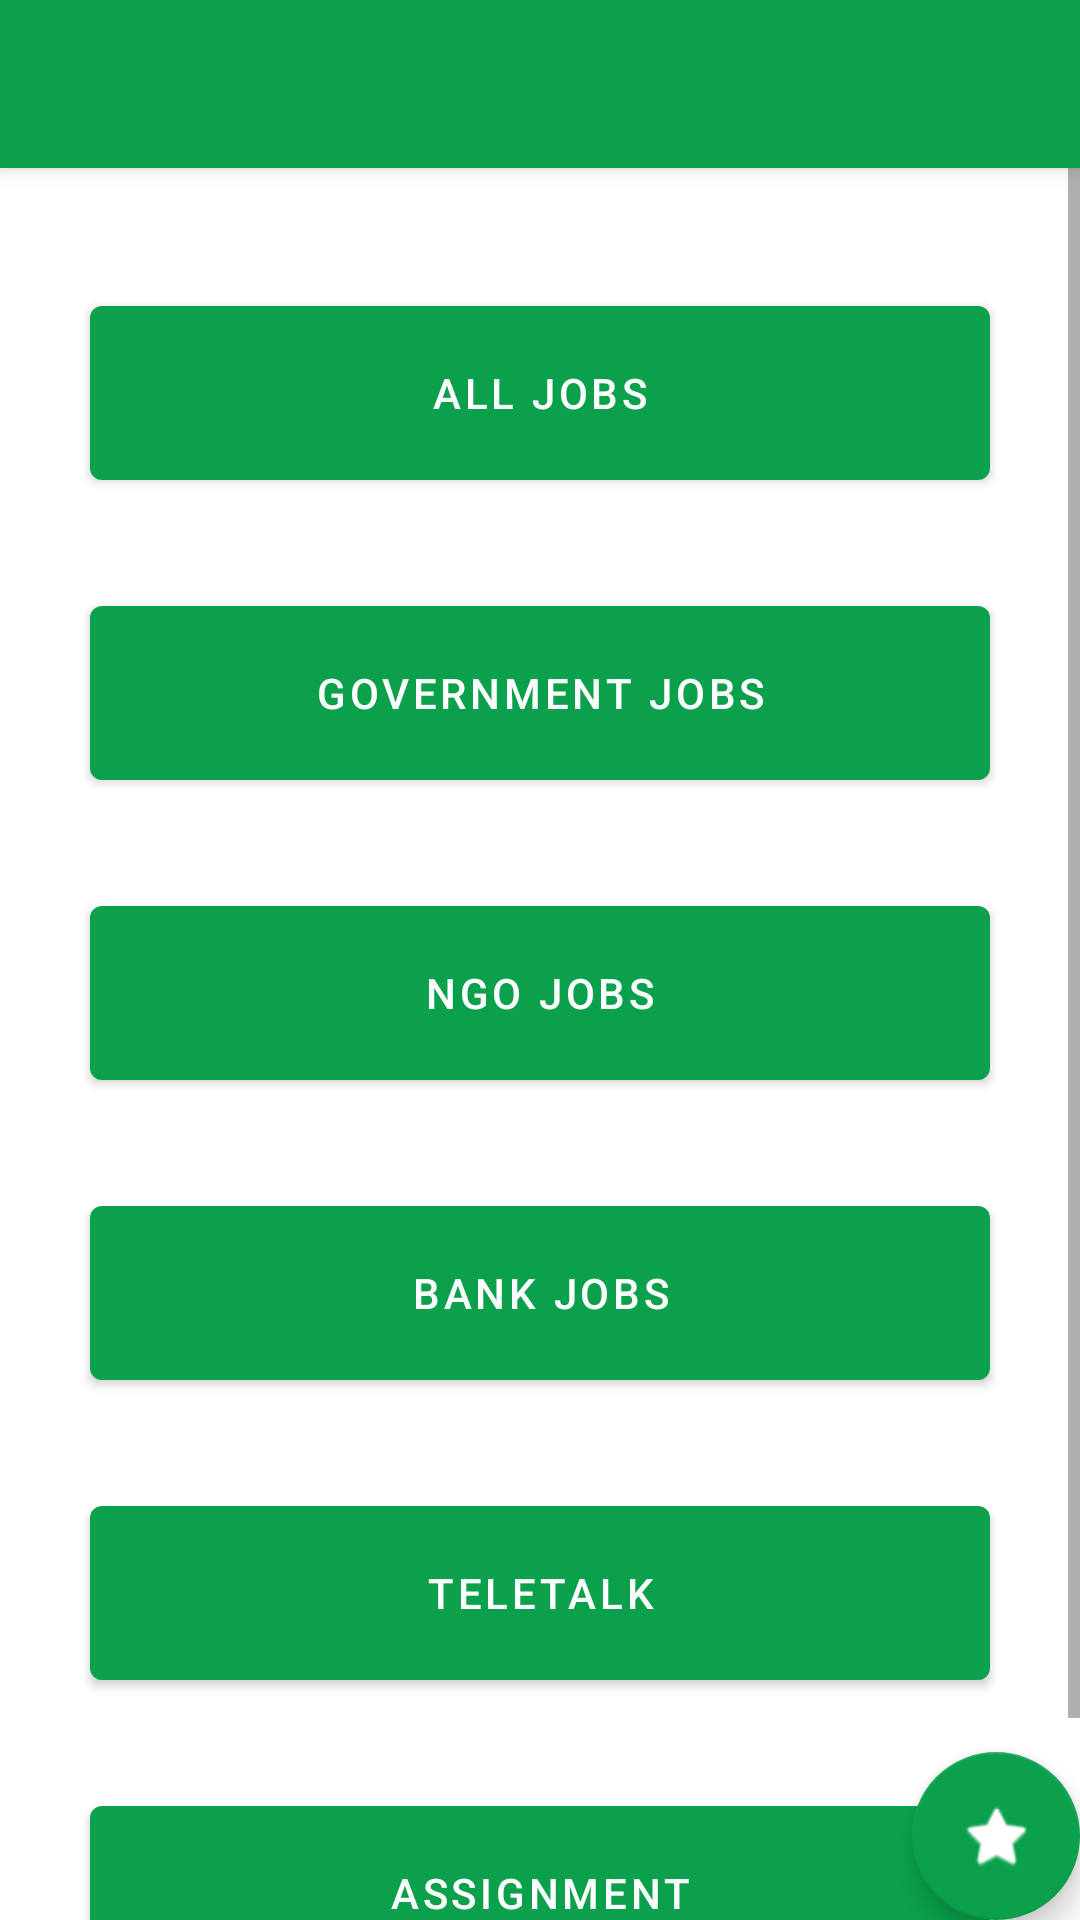

Named icons in this screenshot (1080*1920) and their bounding boxes, (x1, y1, x2, y2):
star on: (912, 1752, 1080, 1920)
